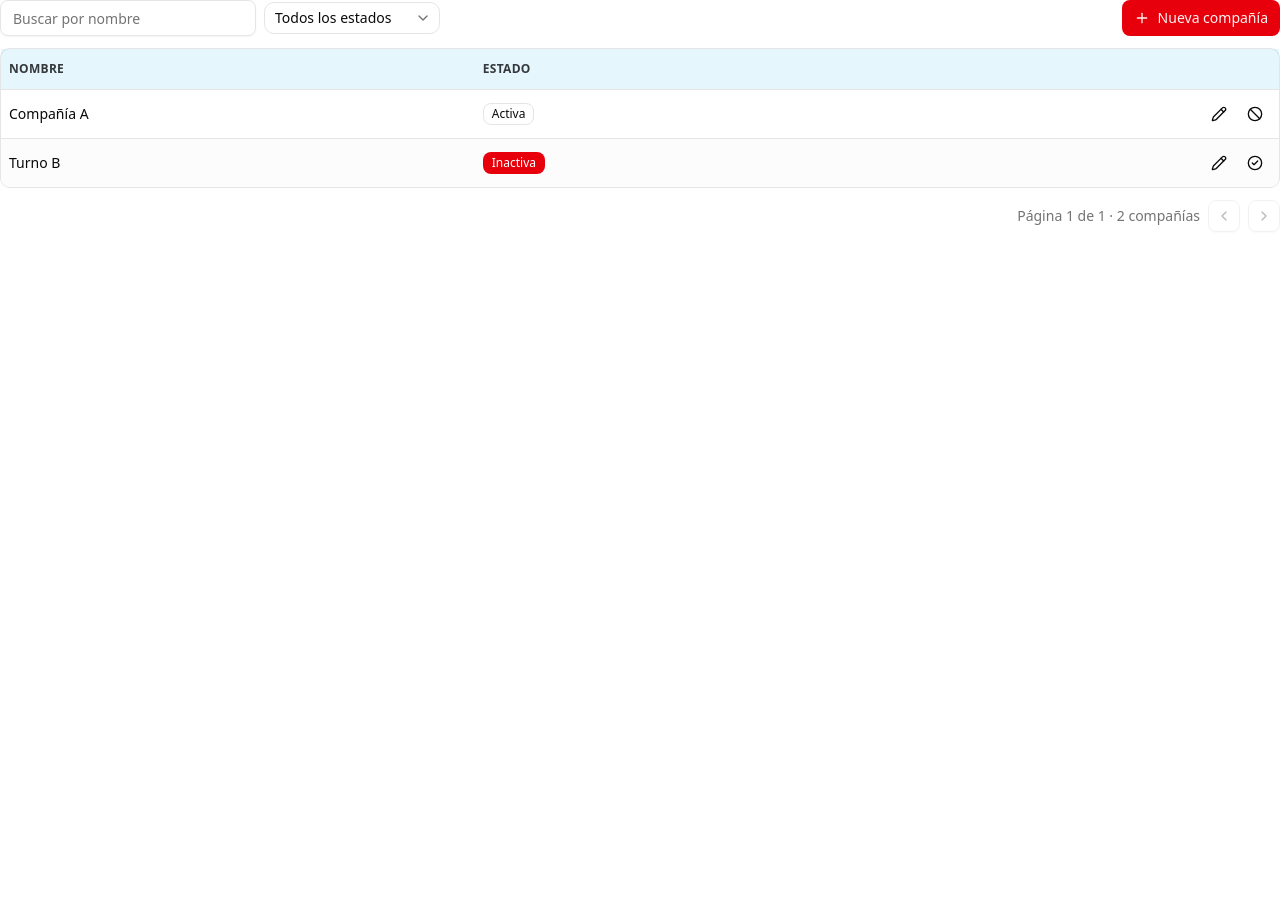
CompaniesTab (004 US2, FR-004) › desactiva tras confirmar; los empleados la conservan (US2-1)
The image size is (1280, 900).
Later steps or results of the test are not shown.
Expected: the row "Compañía A Activa" is shown, [1, 89, 1279, 138]
Step 1. Click the button named "Desactivar Compañía A" → (1255, 114), box [1239, 98, 1271, 130]
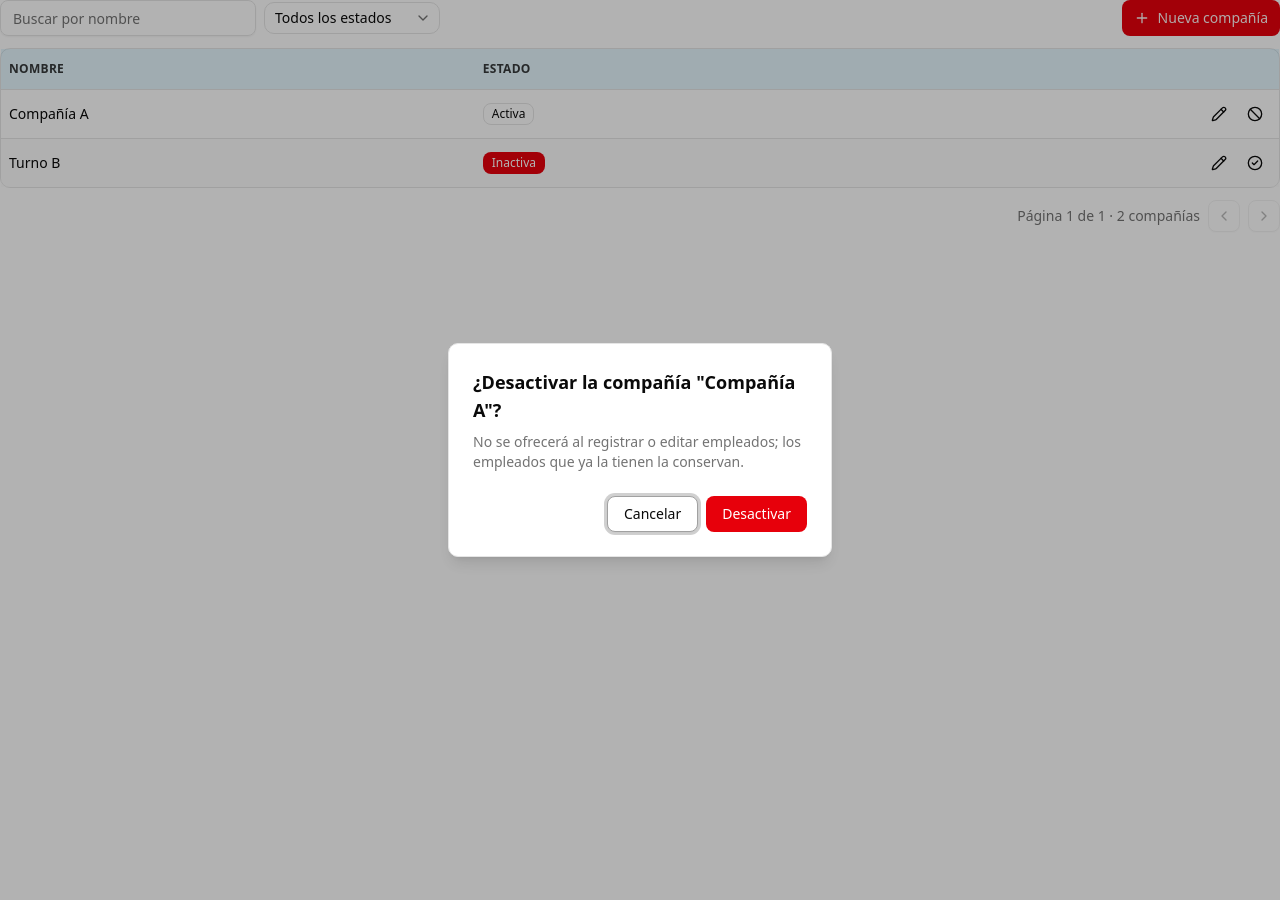
Now the text "empleados que ya la tienen la conservan" is shown, box [473, 432, 801, 471]
